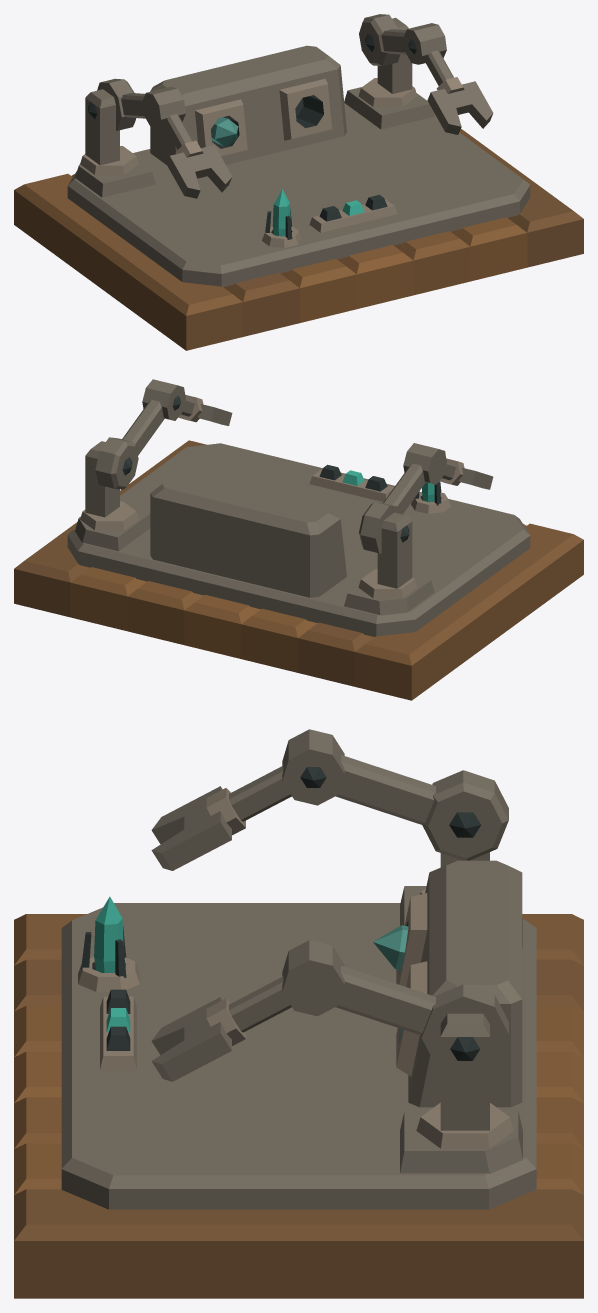
The model's file is portable-device-charging-dock-b175a5.glb.
The picture shows the model from 3 angles, top to bottom: view 1: azimuth 30°, elevation 25°; view 2: azimuth 150°, elevation 25°; view 3: azimuth 270°, elevation 25°; orthographic projection. The views are drawn at different scales.
Parts seen in each view (by area): view 1: dock-body, turntable-l-mesh, claw-r-mesh, claw-l-mesh, turntable-r-mesh, boom-lower-r-mesh, boom-upper-l-mesh, boom-upper-r-mesh, boom-lower-l-mesh, fragment-l-mesh, crystal-mesh; view 2: dock-body, turntable-l-mesh, boom-lower-r-mesh, turntable-r-mesh, boom-lower-l-mesh, boom-upper-l-mesh, boom-upper-r-mesh, claw-l-mesh, claw-r-mesh; view 3: dock-body, boom-lower-l-mesh, turntable-r-mesh, boom-lower-r-mesh, boom-upper-l-mesh, boom-upper-r-mesh, claw-r-mesh, claw-l-mesh, crystal-mesh, fragment-l-mesh.
Part boxes in pixels (box(x1,y1,x2,y2)): dock-body: box(14, 45, 583, 350); turntable-l-mesh: box(80, 89, 138, 174); claw-r-mesh: box(427, 77, 493, 134); claw-l-mesh: box(166, 140, 232, 198); turntable-r-mesh: box(358, 17, 417, 106); boom-lower-r-mesh: box(359, 14, 406, 66); boom-upper-l-mesh: box(142, 86, 192, 149); boom-upper-r-mesh: box(403, 23, 453, 85); boom-lower-l-mesh: box(97, 78, 145, 130); fragment-l-mesh: box(211, 117, 238, 146); crystal-mesh: box(272, 189, 290, 236); dock-body: box(14, 440, 583, 700); turntable-l-mesh: box(358, 512, 417, 598); boom-lower-r-mesh: box(95, 399, 164, 489); turntable-r-mesh: box(80, 441, 138, 530); boom-lower-l-mesh: box(359, 463, 425, 553); boom-upper-l-mesh: box(403, 443, 455, 484); boom-upper-r-mesh: box(142, 379, 194, 420); claw-l-mesh: box(440, 458, 493, 489); claw-r-mesh: box(178, 395, 232, 425); dock-body: box(14, 860, 583, 1298); boom-lower-l-mesh: box(335, 755, 508, 860); turntable-r-mesh: box(416, 1013, 513, 1148); boom-lower-r-mesh: box(335, 965, 508, 1066); boom-upper-l-mesh: box(229, 729, 344, 821); boom-upper-r-mesh: box(229, 940, 344, 1032); claw-r-mesh: box(151, 997, 245, 1081); claw-l-mesh: box(151, 786, 245, 870); crystal-mesh: box(94, 896, 123, 972); fragment-l-mesh: box(373, 925, 408, 969).
Bounding box in the file's own units: 0.8 × 0.3409 × 0.6.
